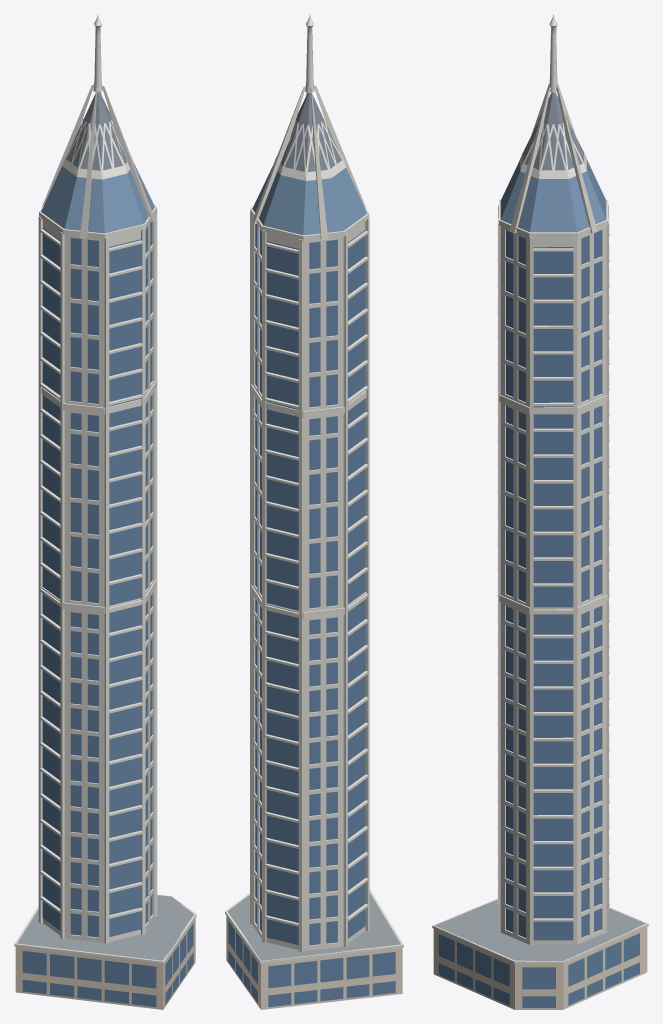
Rendered from dubai-23-marina.glb.
3 views of the same model, side by side, from view 1: azimuth 30°, elevation 25°; view 2: azimuth 150°, elevation 25°; view 3: azimuth 270°, elevation 25° (orthographic).
Parts seen in each view (by area): view 1: 23 Marina; view 2: 23 Marina; view 3: 23 Marina.
Part boxes in pixels (x1,y1,x2,y2): 23 Marina: (14, 14, 196, 1009); 23 Marina: (225, 14, 403, 1009); 23 Marina: (432, 14, 648, 1009).
Bounding box in the file's own units: 72.21 × 392 × 80.41.
